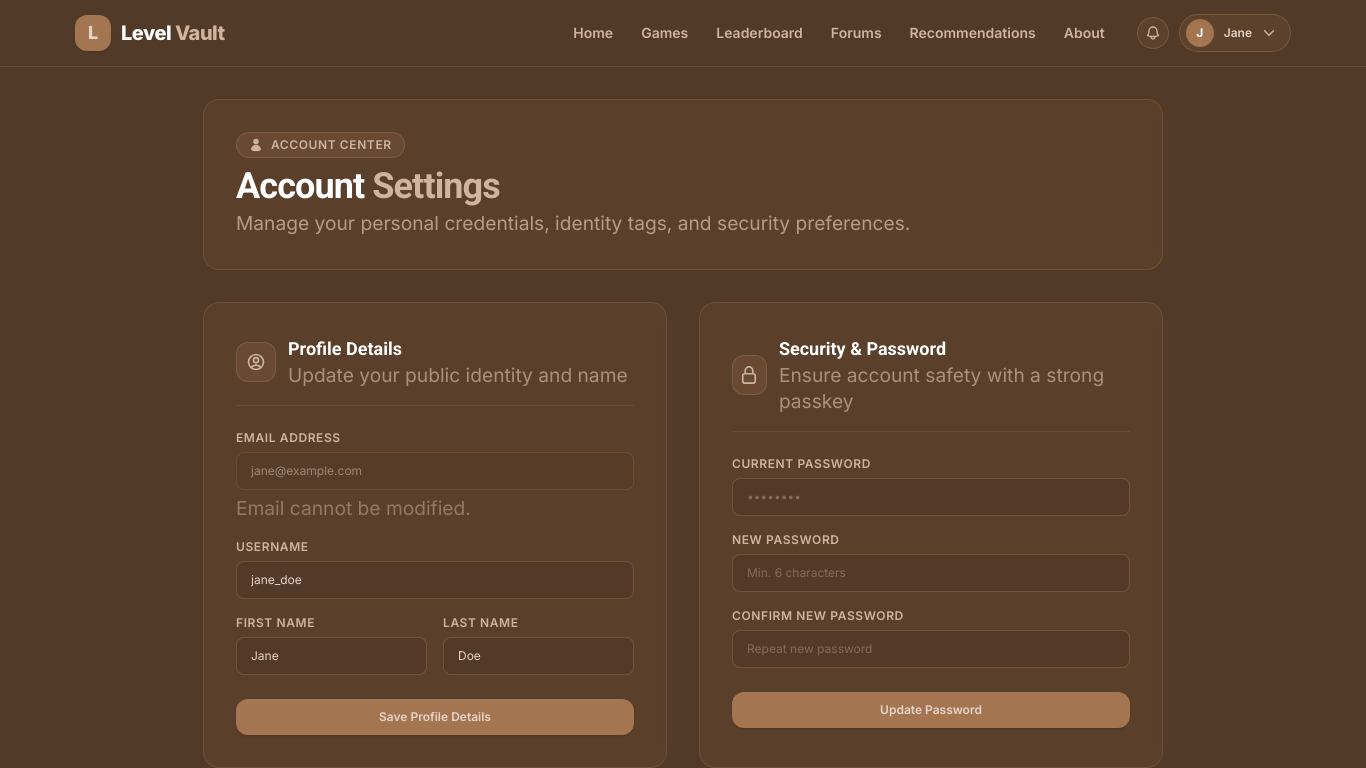
ProfilePage › shows a client-side error when the new password matches the current password
In the password field labelled "Current Password": (931, 497) x1=732 y1=478 x2=1130 y2=516, type "samepass"
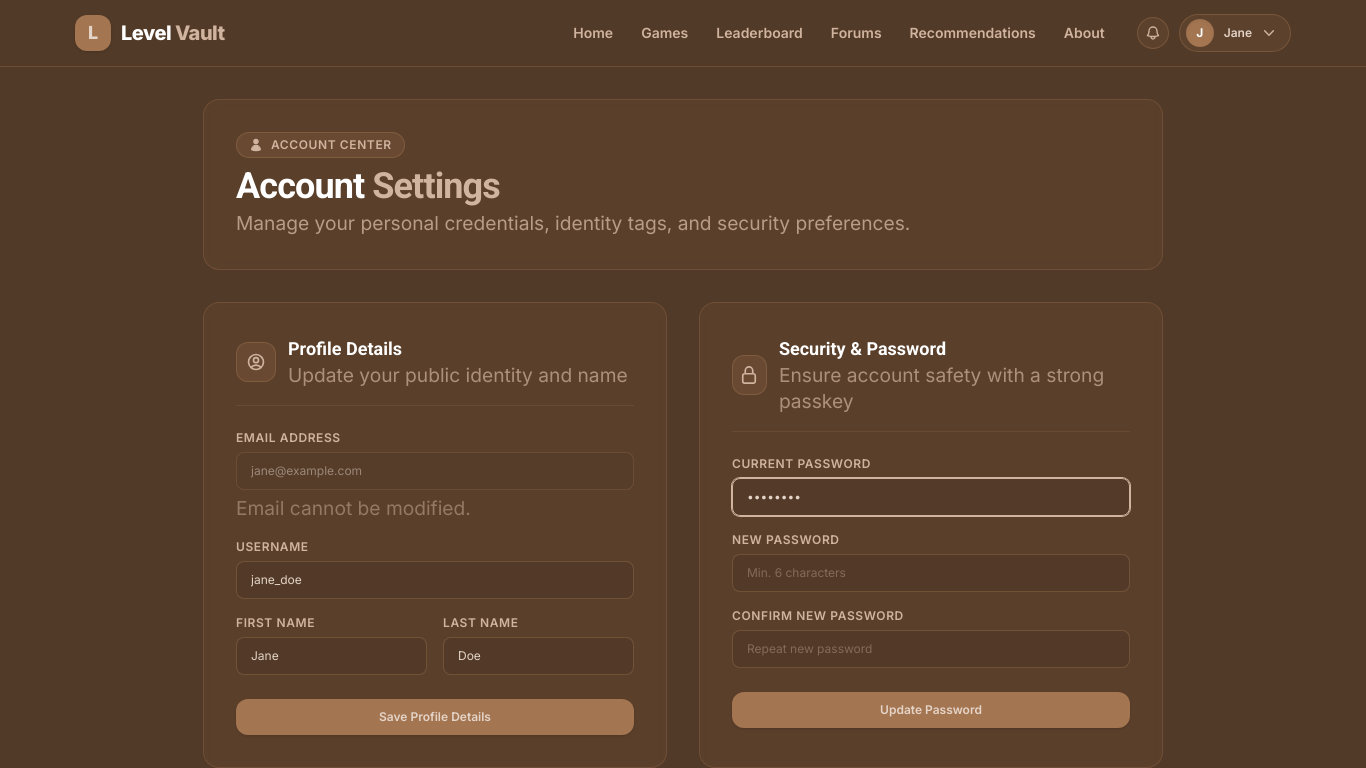
In the password field labelled "New Password": (931, 573) x1=732 y1=554 x2=1130 y2=592, type "samepass"
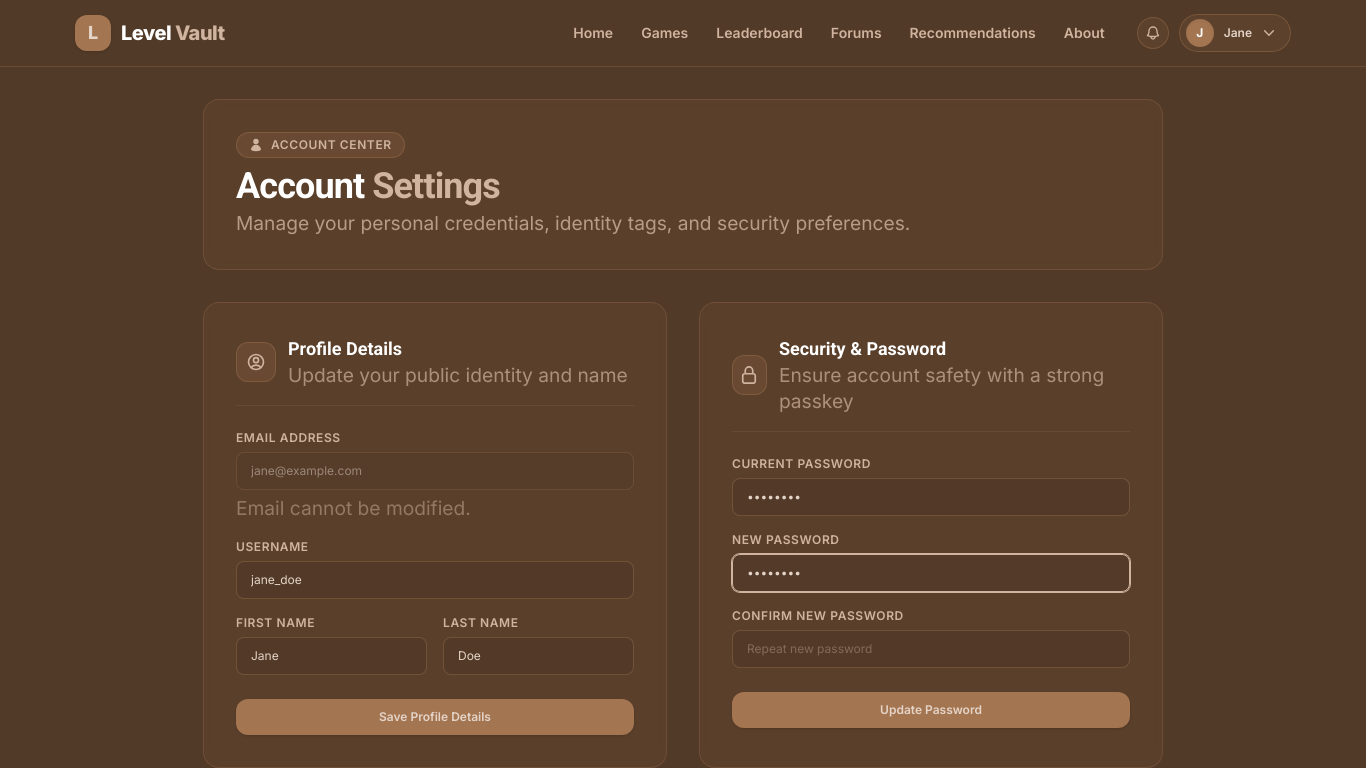
In the password field labelled "Confirm New Password": (931, 649) x1=732 y1=630 x2=1130 y2=668, type "samepass"
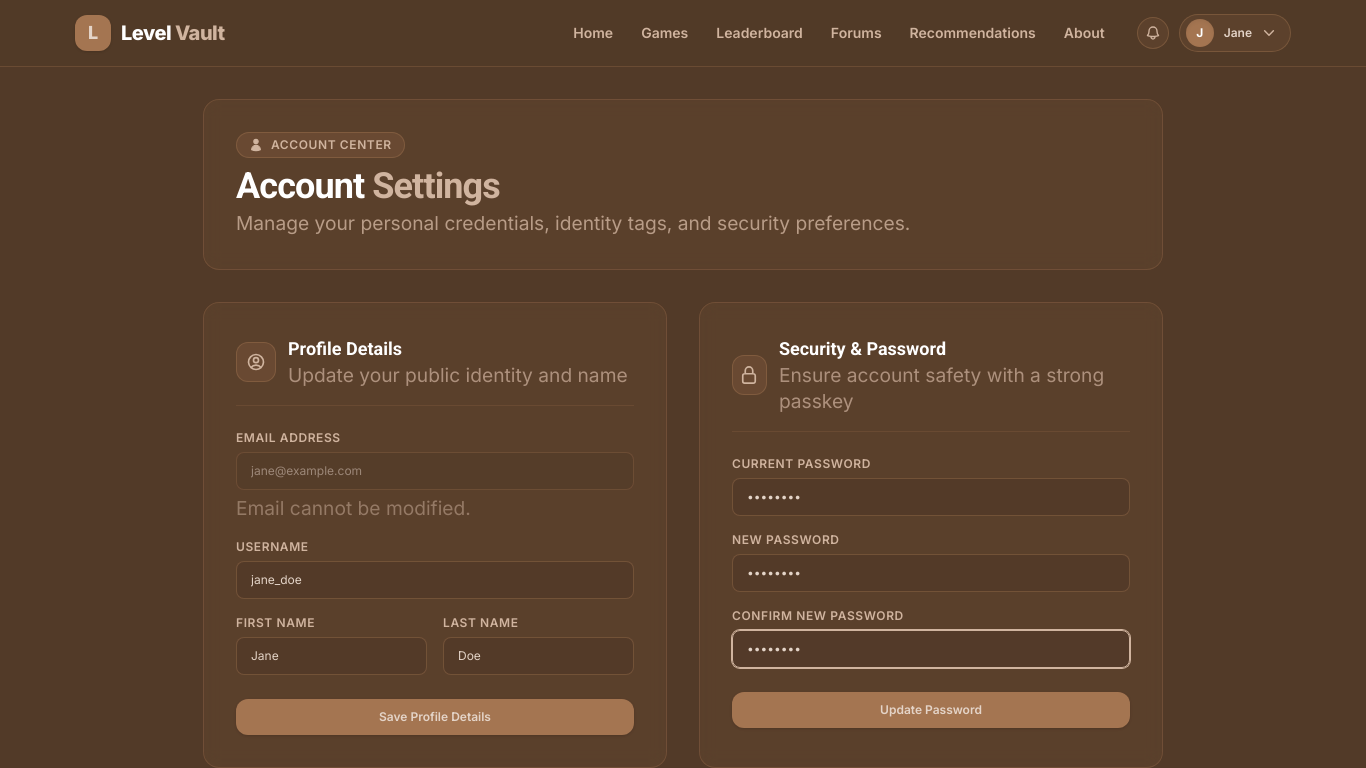
Click the button "Update Password": click(931, 710) x1=732 y1=692 x2=1130 y2=728
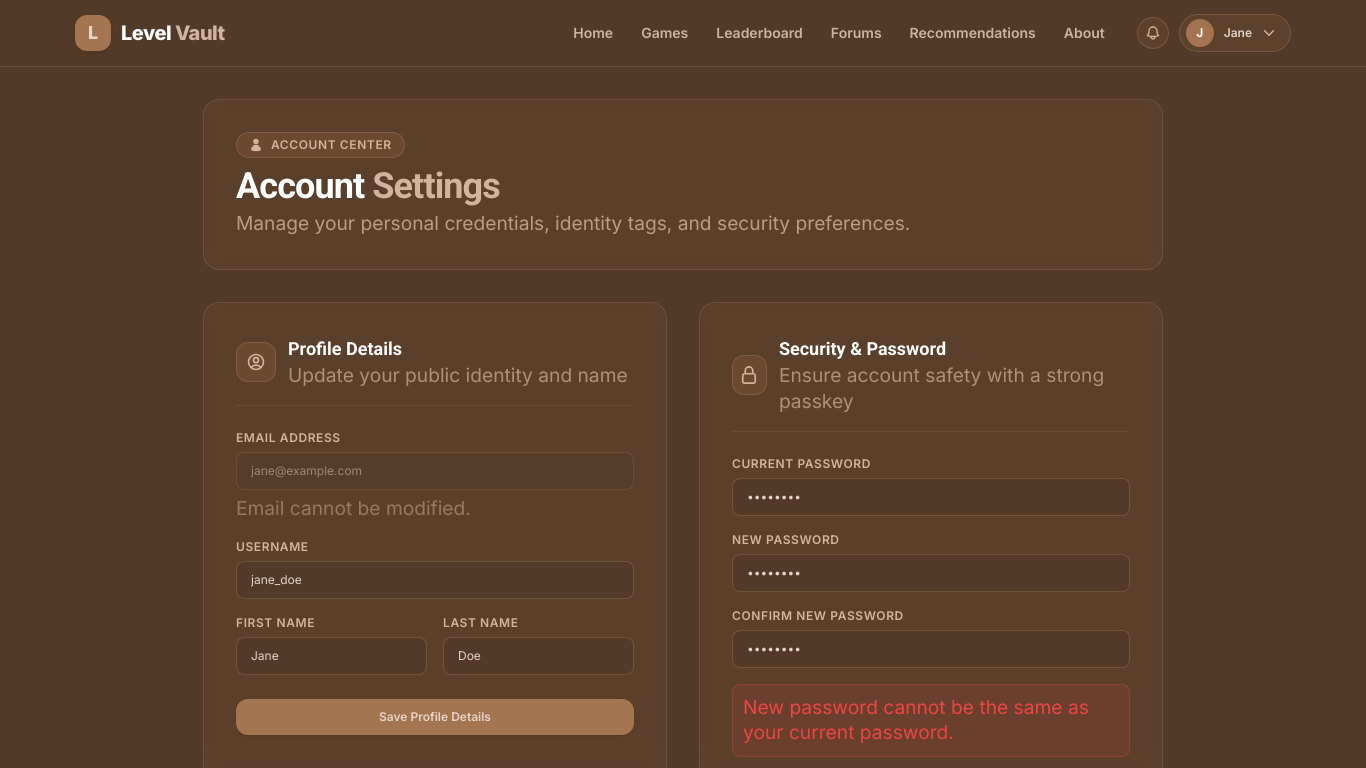
Check: the text "New password cannot be the same as your current password." is shown, box x1=732 y1=684 x2=1130 y2=757
